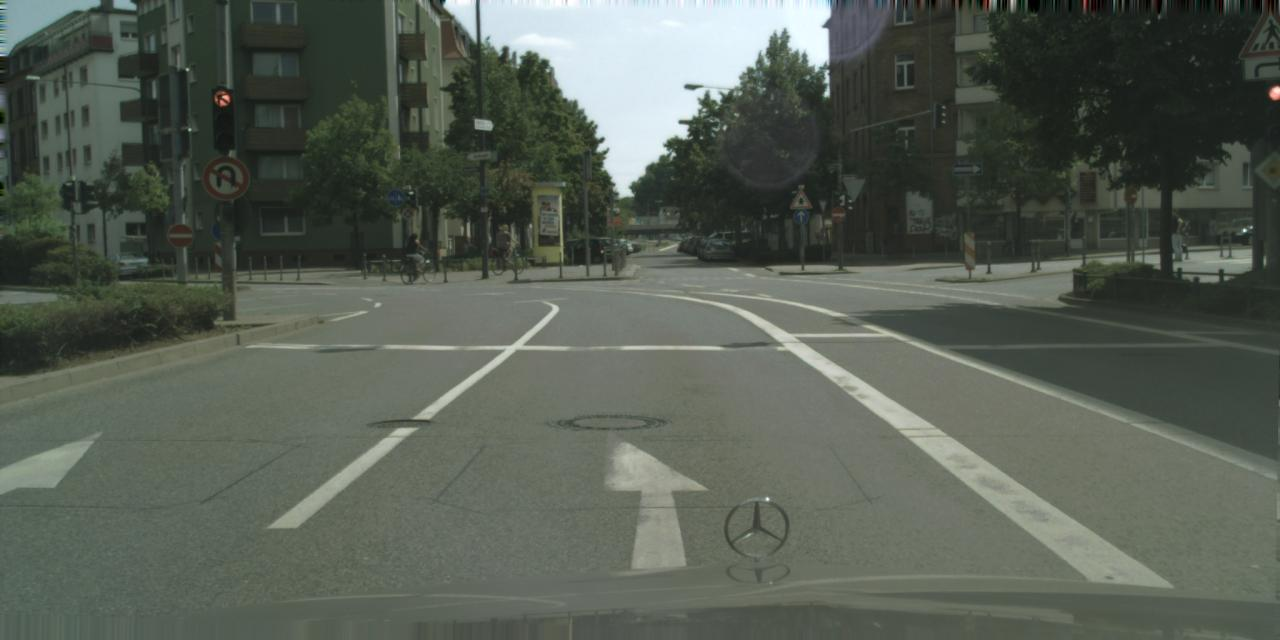ped: (1166, 208, 1186, 260), (406, 233, 423, 276), (497, 224, 513, 264), (462, 237, 472, 265)
